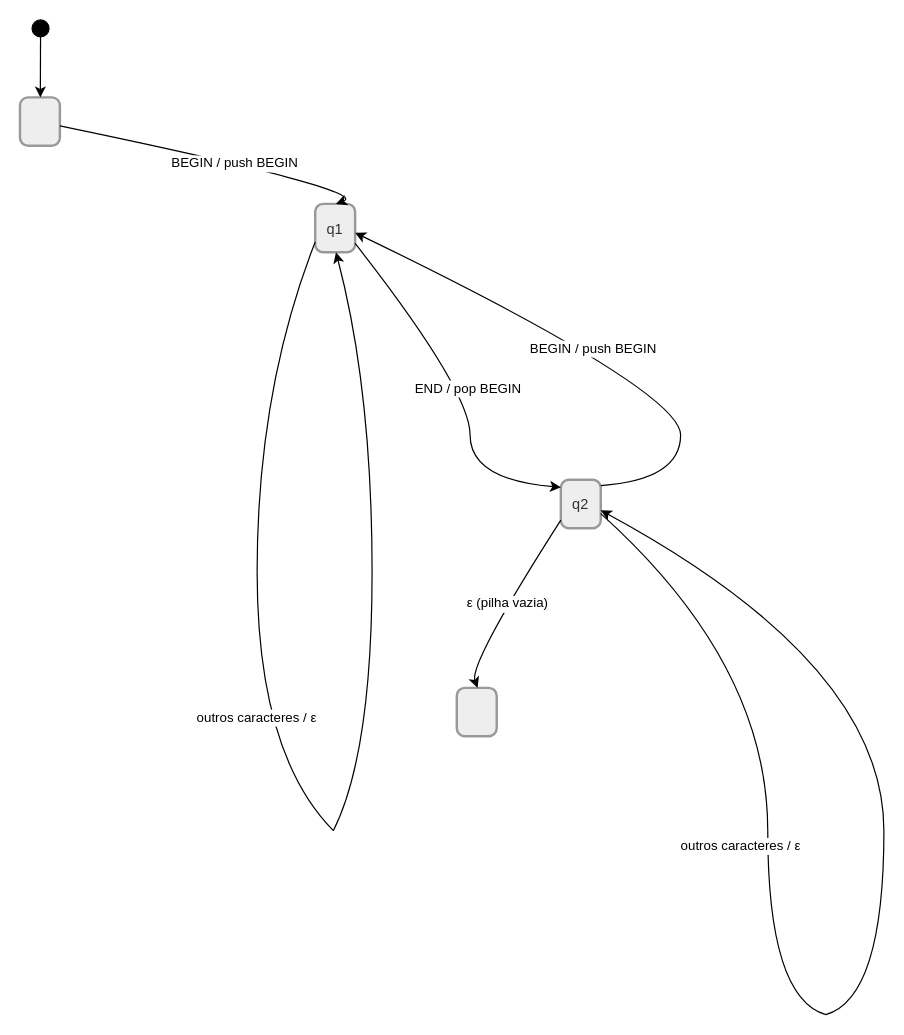
The diagram is 904 pixels wide and 1035 high, and some of its shapes have lost their labels. Each missing label, with the box of its shape:
q0: (18, 96, 60, 146)
q3: (455, 686, 497, 737)
